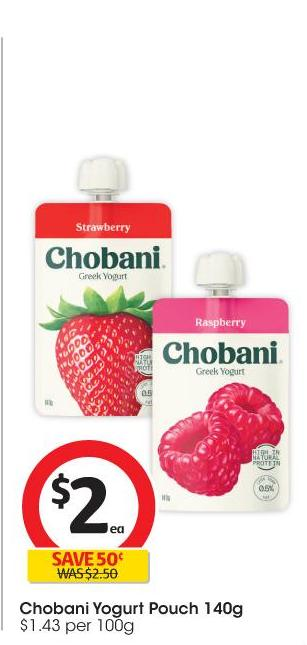description_block: (11, 594, 251, 622)
price_main: (19, 450, 155, 553)
product_image_block: (132, 160, 290, 528)
promo_text_block: (26, 543, 163, 591)
unit_price_block: (10, 617, 149, 636)
